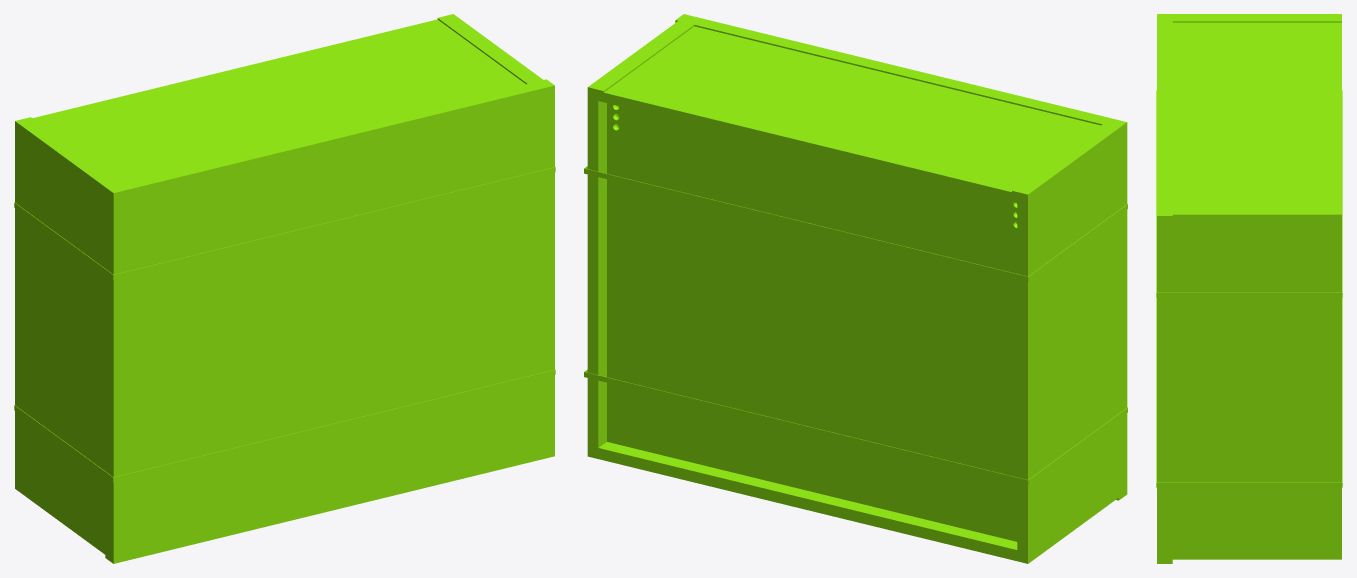
Rendered from haut vert.glb.
3 views of the same model, side by side, from view 1: azimuth 30°, elevation 25°; view 2: azimuth 150°, elevation 25°; view 3: azimuth 270°, elevation 25° (orthographic). The views are drawn at different scales.
Visible parts, largest first — view 1: Part 4, Part 3 (×2), Part 1, Part 5 (×2); view 2: Part 1, Part 3 (×2), Part 5 (×2), Part 4, Part 2; view 3: Part 3 (×2), Part 1, Part 4, Part 5 (×2).
Boxes of the visible parts, x1=… form: Part 4: x1=105, y1=79, x2=554, y2=563; Part 3 (×2): x1=15, y1=14, x2=550, y2=559; Part 1: x1=33, y1=19, x2=525, y2=182; Part 5 (×2): x1=14, y1=167, x2=555, y2=482; Part 1: x1=589, y1=26, x2=1100, y2=561; Part 3 (×2): x1=587, y1=15, x2=1126, y2=563; Part 5 (×2): x1=584, y1=166, x2=1127, y2=485; Part 4: x1=675, y1=14, x2=1127, y2=500; Part 2: x1=591, y1=457, x2=1011, y2=559; Part 3 (×2): x1=1158, y1=14, x2=1341, y2=559; Part 1: x1=1172, y1=22, x2=1341, y2=207; Part 4: x1=1157, y1=14, x2=1172, y2=563; Part 5 (×2): x1=1156, y1=90, x2=1342, y2=487.
Size of the model in its own units: 0.914 by 0.732 by 0.355.
